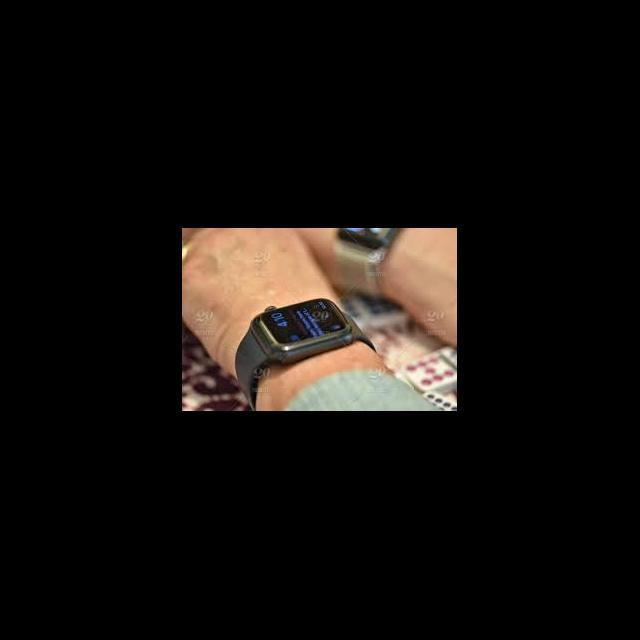watch: (230, 295, 373, 400)
